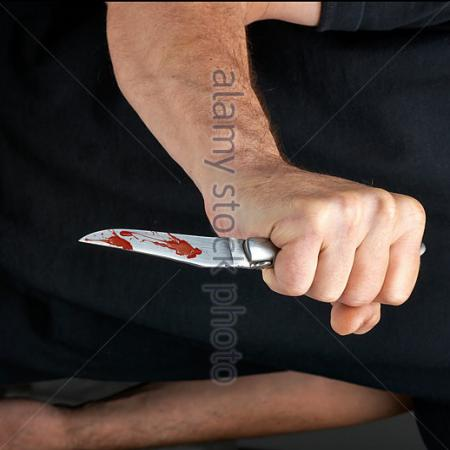long weapon: (71, 199, 396, 307)
